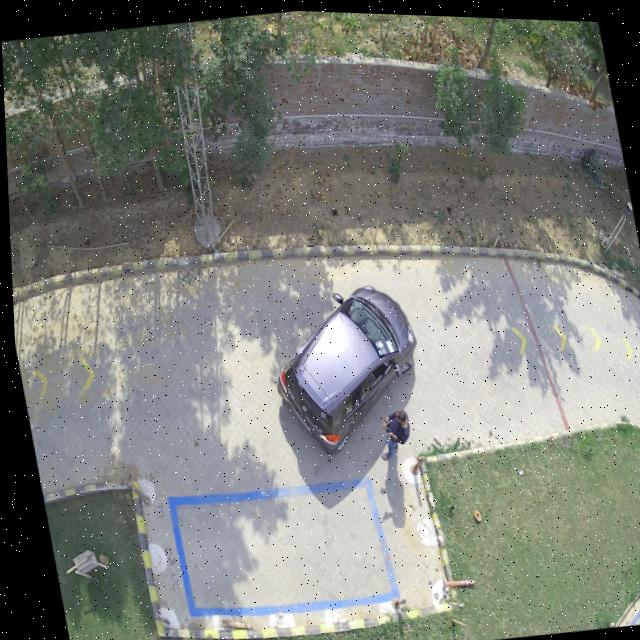car: (274, 283, 413, 451)
